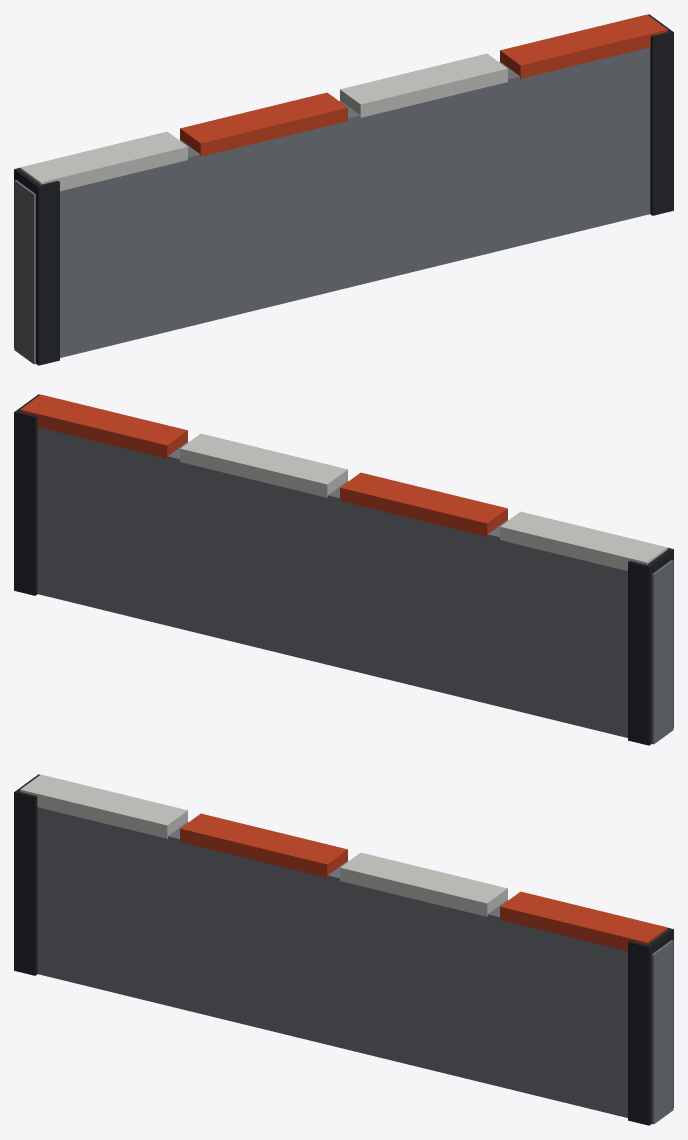
File: mobile-low.glb
3 views of the same model, one above another, from view 1: azimuth 30°, elevation 25°; view 2: azimuth 150°, elevation 25°; view 3: azimuth 330°, elevation 25° (orthographic).
Parts seen in each view (by area): view 1: county-barrier; view 2: county-barrier; view 3: county-barrier.
Part boxes in pixels (x1,y1,x2,y2): county-barrier: (14,14,673,365); county-barrier: (14,394,673,745); county-barrier: (14,774,673,1125).
Bounding box in the file's own units: 15 × 4.05 × 1.
